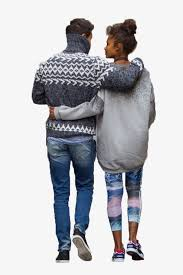Humano: (41, 14, 100, 269), (96, 16, 153, 266)
